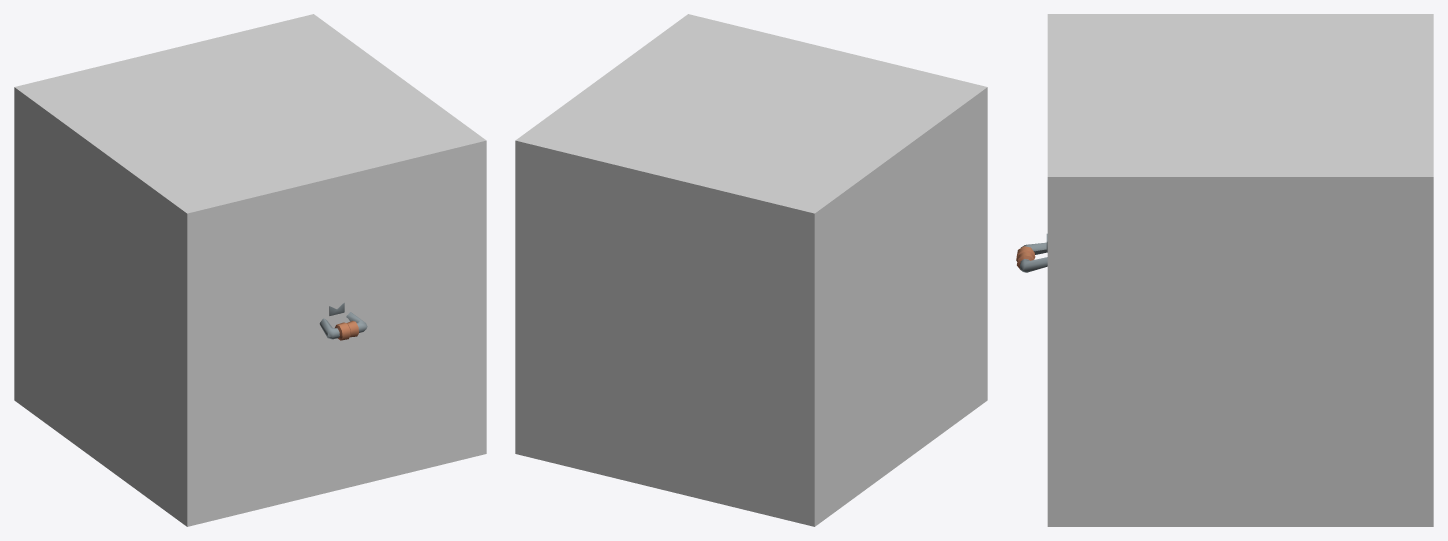
File: crossbow.glb
3 views of the same model, side by side, from view 1: azimuth 30°, elevation 25°; view 2: azimuth 150°, elevation 25°; view 3: azimuth 270°, elevation 25° (orthographic). The views are drawn at different scales.
Visible parts, largest first — view 1: Cube, crossbow_2handed; view 2: Cube; view 3: Cube, crossbow_2handed.
Part boxes in pixels (x1,y1,x2,y2): Cube: [14, 14, 486, 526]; crossbow_2handed: [319, 302, 367, 340]; Cube: [515, 14, 987, 526]; Cube: [1047, 14, 1433, 526]; crossbow_2handed: [1016, 233, 1047, 272].
Bounding box in the file's own units: 2 × 2 × 2.16.
2 materials, 1 textured.
